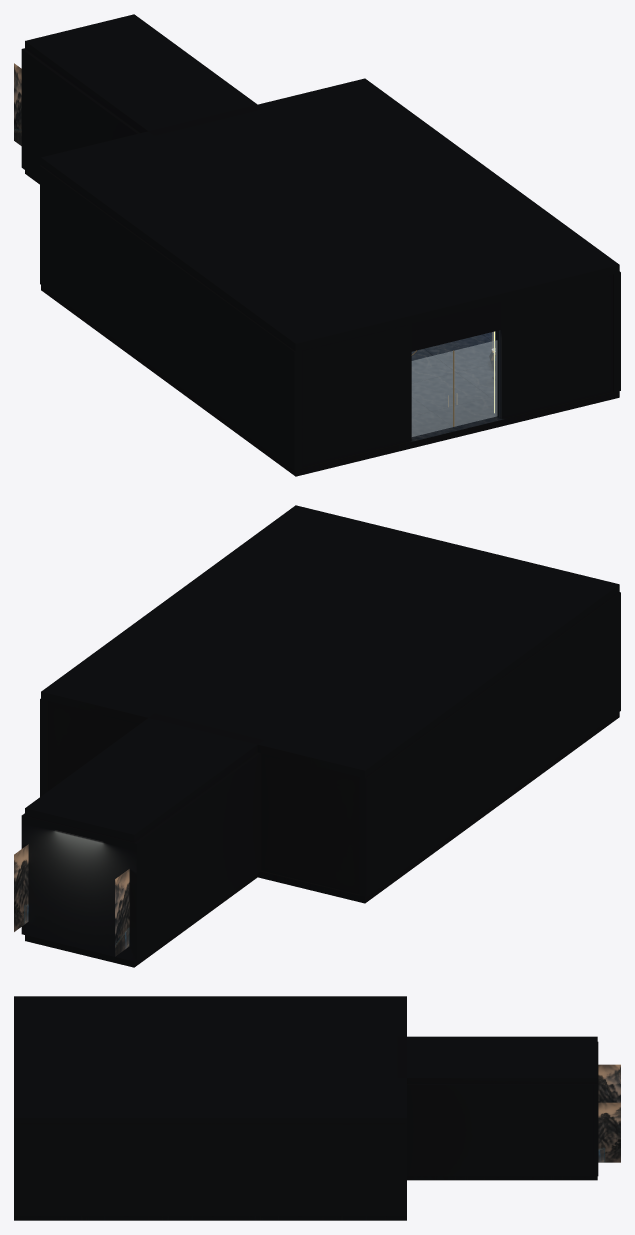
File: museum_R11.glb
3 renders of one model, top to bottom at view 1: azimuth 30°, elevation 25°; view 2: azimuth 150°, elevation 25°; view 3: azimuth 270°, elevation 25°, orthographic. The views are drawn at different scales.
Visible parts, largest first — view 1: R11_Baked_Architecture, Web_R11_Sliding glass door Right, Web_R11_Sliding glass door Left; view 2: R11_Baked_Architecture; view 3: R11_Baked_Architecture.
Boxes of the visible parts, x1,y1,x2,y2 form: R11_Baked_Architecture: [14, 14, 620, 476]; Web_R11_Sliding glass door Right: [454, 340, 497, 426]; Web_R11_Sliding glass door Left: [412, 351, 452, 436]; R11_Baked_Architecture: [14, 505, 620, 967]; R11_Baked_Architecture: [14, 996, 620, 1220].
Bounding box in the file's own units: 16.72 × 6.5 × 34.9.
Materials: 16 (7 with a texture image).
